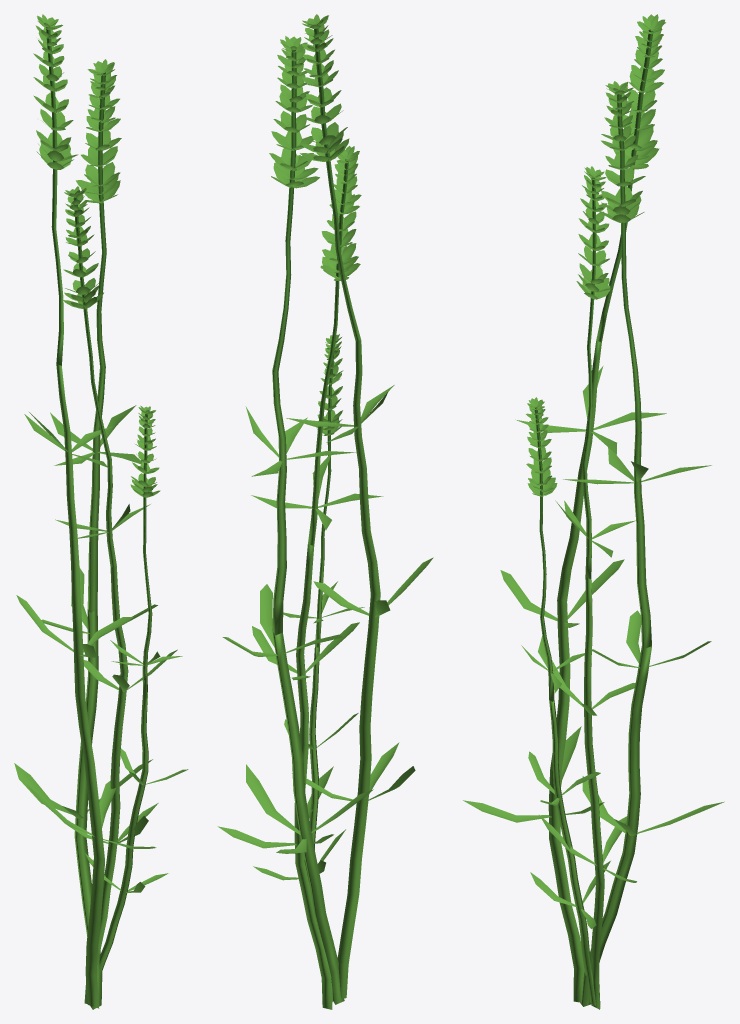
Rendered from NS_Sliced_Lavande.glb.
3 renders of one model, left to right at view 1: azimuth 30°, elevation 25°; view 2: azimuth 150°, elevation 25°; view 3: azimuth 270°, elevation 25°, orthographic. The views are drawn at different scales.
Parts seen in each view (by area): view 1: S_Lavande.002, S_Lavande.005, S_Lavande.006, S_Lavande.004, S_Lavande.007, S_Lavande.003, S_Lavande.001, S_Lavande.008; view 2: S_Lavande.002, S_Lavande.005, S_Lavande.004, S_Lavande.003, S_Lavande.007, S_Lavande.006, S_Lavande.008, S_Lavande.001; view 3: S_Lavande.002, S_Lavande.005, S_Lavande.004, S_Lavande.003, S_Lavande.007, S_Lavande.006, S_Lavande.001, S_Lavande.008.
Boxes of the visible parts, left/top/right/bottom form: S_Lavande.002: left=16, top=364, right=156, bottom=1008; S_Lavande.005: left=50, top=59, right=142, bottom=612; S_Lavande.006: left=33, top=14, right=78, bottom=365; S_Lavande.004: left=14, top=568, right=157, bottom=1009; S_Lavande.007: left=55, top=186, right=150, bottom=567; S_Lavande.003: left=58, top=566, right=177, bottom=1003; S_Lavande.001: left=85, top=674, right=188, bottom=973; S_Lavande.008: left=110, top=405, right=182, bottom=692; S_Lavande.002: left=286, top=340, right=433, bottom=998; S_Lavande.005: left=245, top=36, right=356, bottom=635; S_Lavande.004: left=222, top=584, right=373, bottom=1004; S_Lavande.003: left=217, top=544, right=359, bottom=1009; S_Lavande.007: left=251, top=146, right=383, bottom=545; S_Lavande.006: left=300, top=14, right=361, bottom=340; S_Lavande.008: left=283, top=334, right=364, bottom=647; S_Lavande.001: left=253, top=626, right=358, bottom=1002; S_Lavande.002: left=463, top=341, right=666, bottom=1002; S_Lavande.005: left=563, top=81, right=711, bottom=648; S_Lavande.004: left=580, top=610, right=724, bottom=1006; S_Lavande.003: left=539, top=577, right=636, bottom=1009; S_Lavande.007: left=555, top=166, right=635, bottom=579; S_Lavande.006: left=596, top=14, right=665, bottom=341; S_Lavande.001: left=528, top=699, right=610, bottom=1005; S_Lavande.008: left=521, top=397, right=592, bottom=701.
Size of the model in its own units: 0.0913 by 0.5282 by 0.1285.
1 material, 1 textured.
